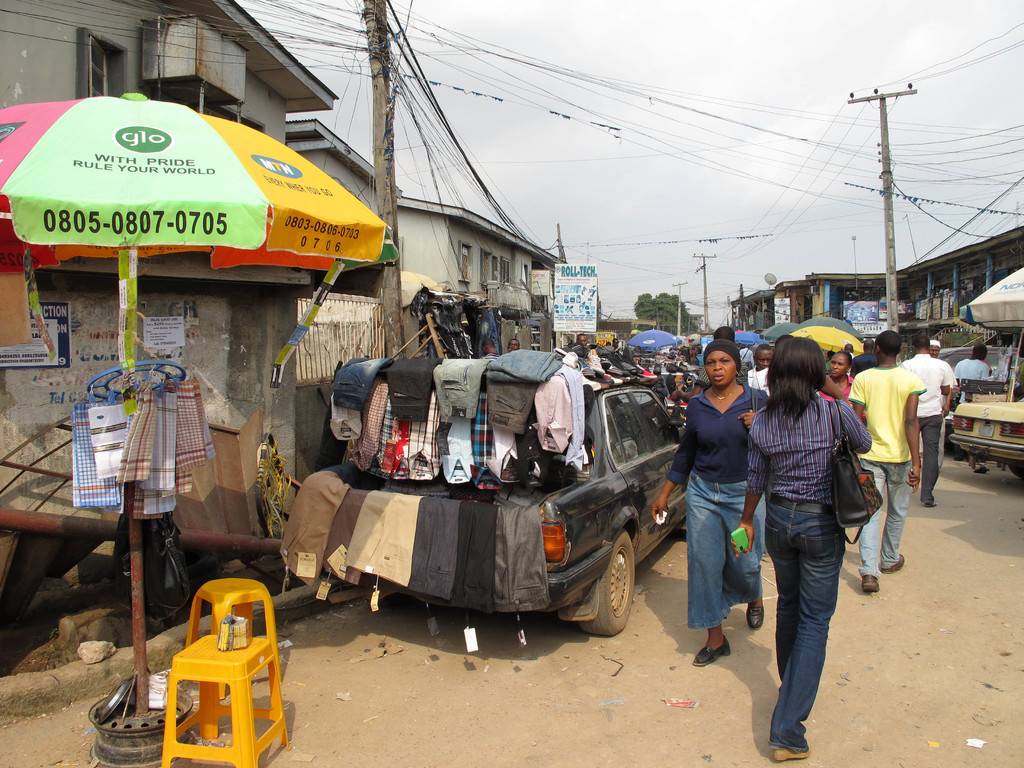Car: (240, 348, 682, 624), (950, 384, 1023, 474)
